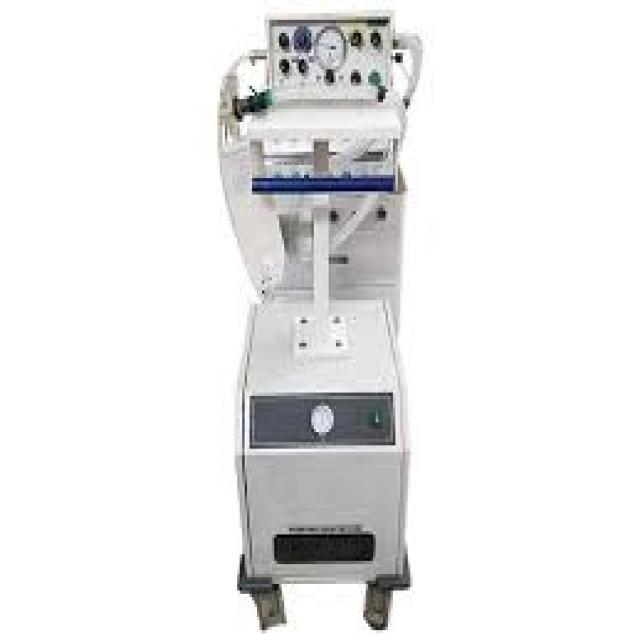ventilator: (180, 1, 468, 559)
